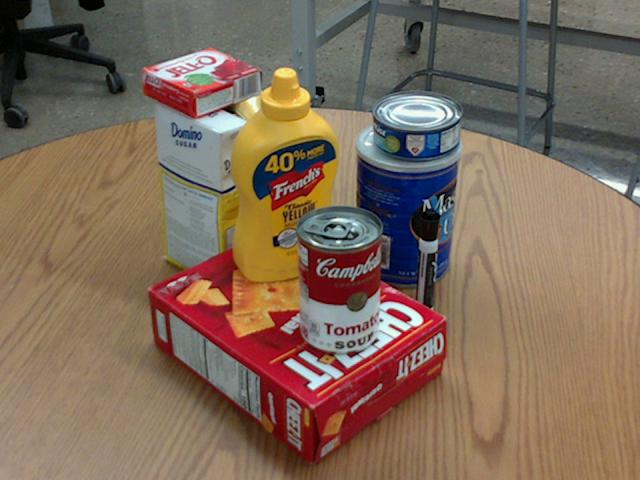cracker_box: (150, 224, 446, 463)
gelatin_box: (142, 48, 261, 117)
large_marker: (413, 208, 439, 324)
master_chef_can: (352, 117, 462, 287)
mug: (203, 149, 291, 252)
mustard_bottle: (229, 67, 337, 281)
potted_meat_can: (184, 86, 305, 209)
sugar_box: (154, 94, 250, 292)
tomato_soup_can: (296, 204, 382, 353)
tuna_fish_can: (372, 91, 462, 159)
